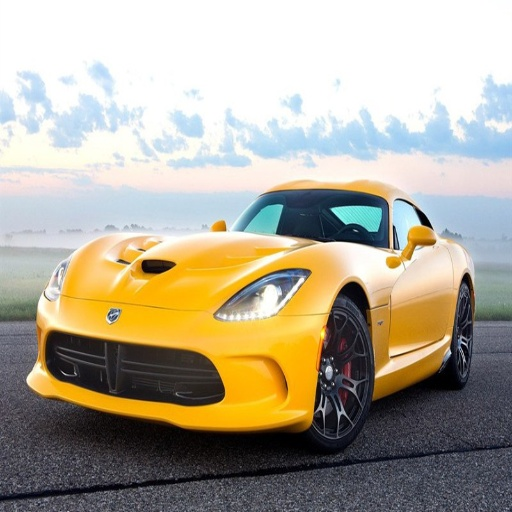back_bumper: (107, 343, 186, 387)
back_glass: (93, 240, 168, 273)
front_bumper: (32, 300, 326, 430)
front_glass: (235, 189, 385, 242)
front_left_door: (389, 202, 438, 369)
front_left_light: (223, 268, 310, 322)
trunk: (89, 275, 205, 345)
